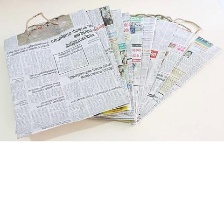news_paper: (1, 4, 224, 141)
